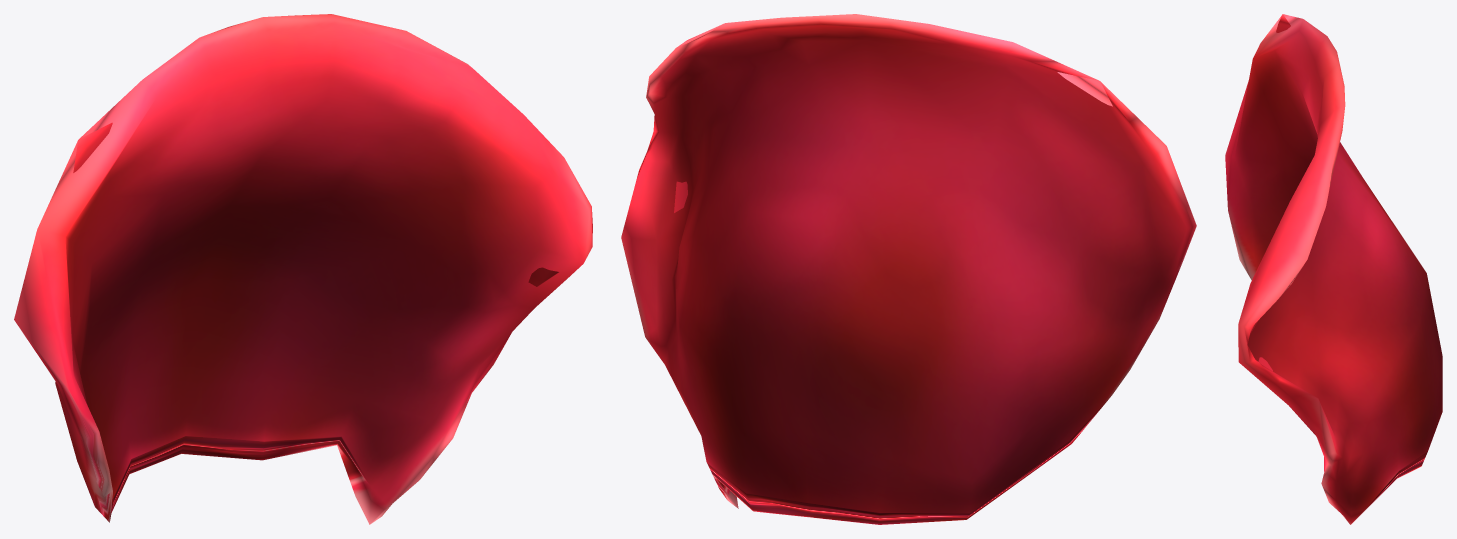
3 renders of one model, left to right at view 1: azimuth 30°, elevation 25°; view 2: azimuth 150°, elevation 25°; view 3: azimuth 270°, elevation 25°, orthographic. The views are drawn at different scales.
Parts seen in each view (by area): view 1: PM3D_Cube3D_22.007; view 2: PM3D_Cube3D_22.007; view 3: PM3D_Cube3D_22.007.
Part boxes in pixels (x1,y1,x2,y2): PM3D_Cube3D_22.007: [14, 14, 592, 524]; PM3D_Cube3D_22.007: [621, 14, 1196, 524]; PM3D_Cube3D_22.007: [1225, 14, 1442, 524].
Bounding box in the file's own units: 1.15 × 1.03 × 0.4871.
Materials: 1 (1 with a texture image).
